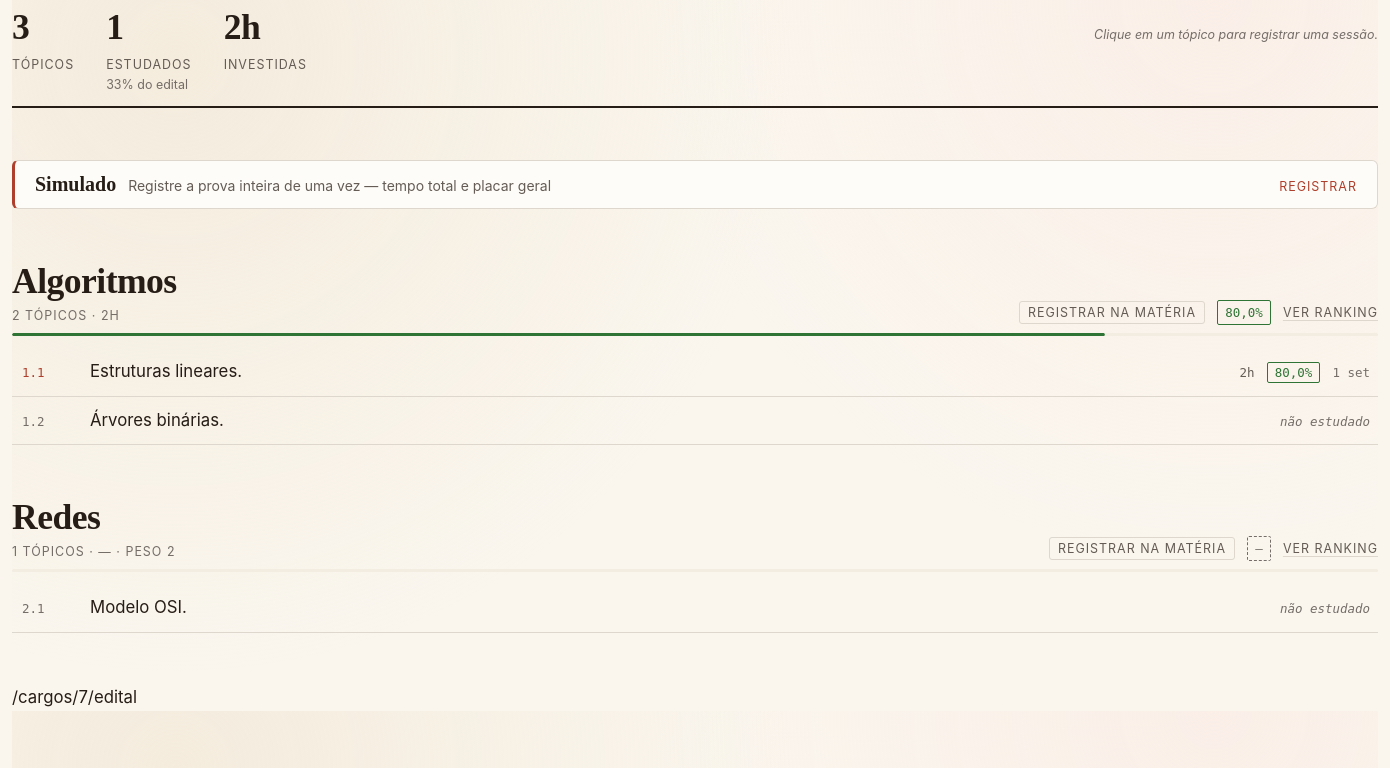
Test case: PaginaEdital › clicar em um topico grava o estado na URL
Click the button "2.1 Modelo OSI. não estudado": (138, 607) [12,584,1378,632]
(page scrolled)
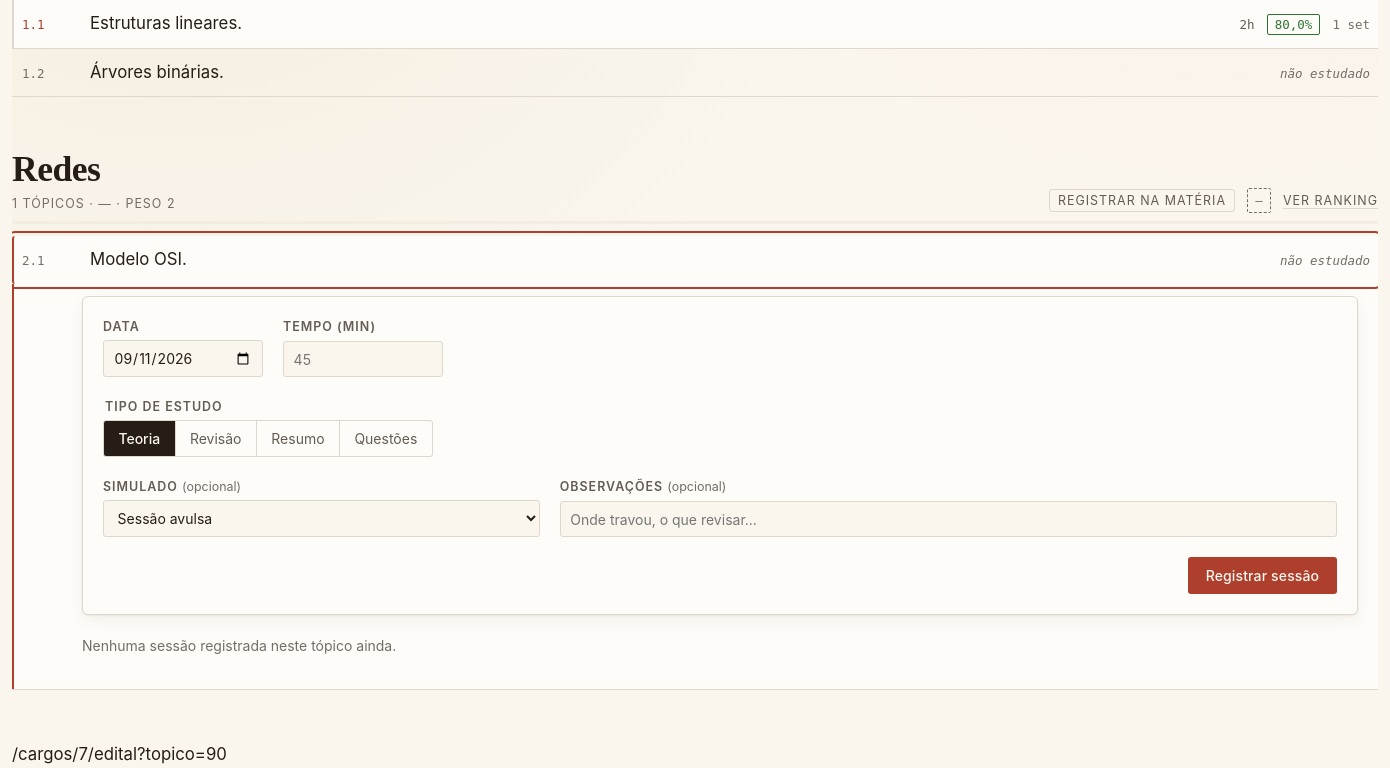
Expected: the text with test id "url" reads "/cargos/7/edital?topico=90", [12,744,227,764]
